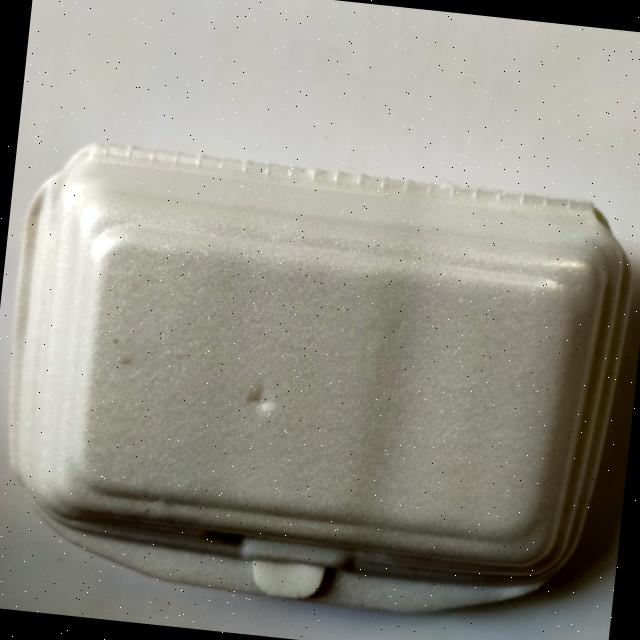styrofoam: (0, 131, 639, 633)
